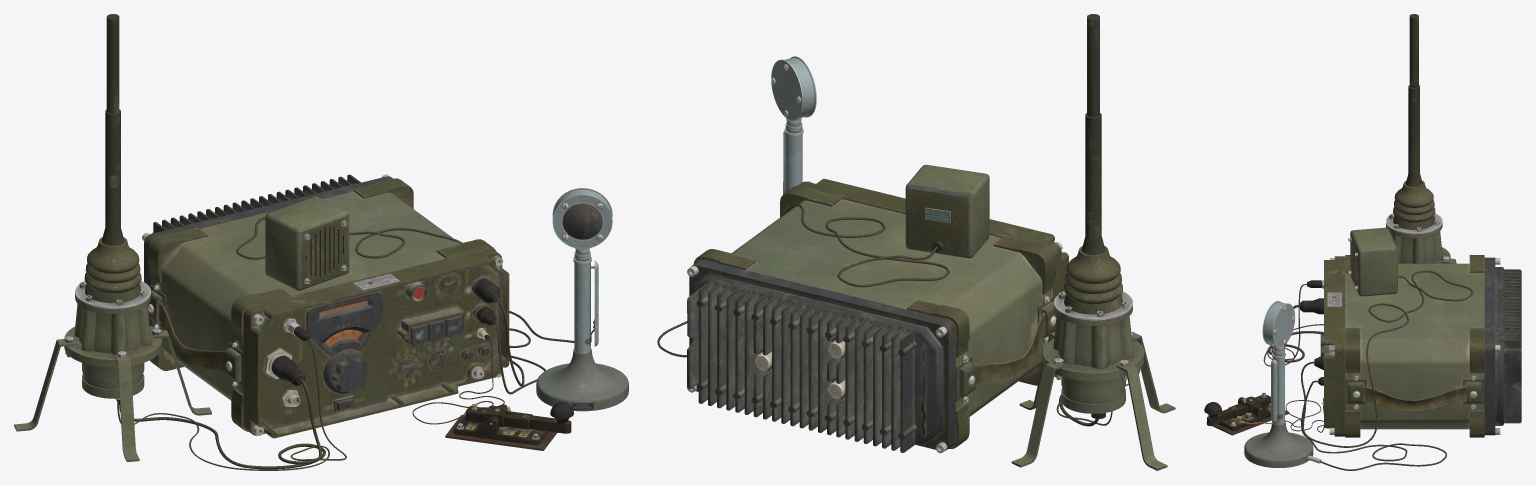
The model's file is radio.glb.
3 renders of one model, left to right at view 1: azimuth 30°, elevation 25°; view 2: azimuth 150°, elevation 25°; view 3: azimuth 270°, elevation 25°, orthographic. The views are drawn at different scales.
Parts seen in each view (by area): view 1: vintage_radio_transceiver, vintage_radio_transceiver_antenna, vintage_radio_transceiver_microphone, vintage_radio_transceiver_speaker, vintage_radio_transceiver_cables, vintage_radio_transceiver_morse_key_base, vintage_radio_transceiver_morse_key_arm, vintage_radio_transceiver_dial, vintage_radio_transceiver_antenna_plug_a; view 2: vintage_radio_transceiver, vintage_radio_transceiver_antenna, vintage_radio_transceiver_speaker, vintage_radio_transceiver_microphone, vintage_radio_transceiver_cables; view 3: vintage_radio_transceiver, vintage_radio_transceiver_antenna, vintage_radio_transceiver_microphone, vintage_radio_transceiver_cables, vintage_radio_transceiver_speaker, vintage_radio_transceiver_morse_key_arm, vintage_radio_transceiver_morse_key_base.
Boxes of the visible parts, <box> form: vintage_radio_transceiver: <box>142,174,509,438</box>; vintage_radio_transceiver_antenna: <box>14,14,211,461</box>; vintage_radio_transceiver_microphone: <box>536,188,628,411</box>; vintage_radio_transceiver_speaker: <box>265,196,349,290</box>; vintage_radio_transceiver_cables: <box>117,217,574,470</box>; vintage_radio_transceiver_morse_key_base: <box>445,404,557,450</box>; vintage_radio_transceiver_morse_key_arm: <box>466,402,573,433</box>; vintage_radio_transceiver_dial: <box>323,329,369,393</box>; vintage_radio_transceiver_antenna_plug_a: <box>271,355,305,385</box>; vintage_radio_transceiver: <box>687,178,1068,453</box>; vintage_radio_transceiver_antenna: <box>1011,14,1175,470</box>; vintage_radio_transceiver_speaker: <box>905,164,989,258</box>; vintage_radio_transceiver_microphone: <box>771,56,816,194</box>; vintage_radio_transceiver_cables: <box>657,204,1139,426</box>; vintage_radio_transceiver: <box>1324,255,1521,437</box>; vintage_radio_transceiver_antenna: <box>1386,14,1456,263</box>; vintage_radio_transceiver_microphone: <box>1244,301,1321,467</box>; vintage_radio_transceiver_cables: <box>1261,270,1473,470</box>; vintage_radio_transceiver_speaker: <box>1348,227,1397,296</box>; vintage_radio_transceiver_morse_key_arm: <box>1204,392,1270,426</box>; vintage_radio_transceiver_morse_key_base: <box>1206,397,1289,435</box>.
Bounding box in the file's own units: 0.574 × 0.4344 × 0.4131.
Materials: 2 (2 with a texture image).
